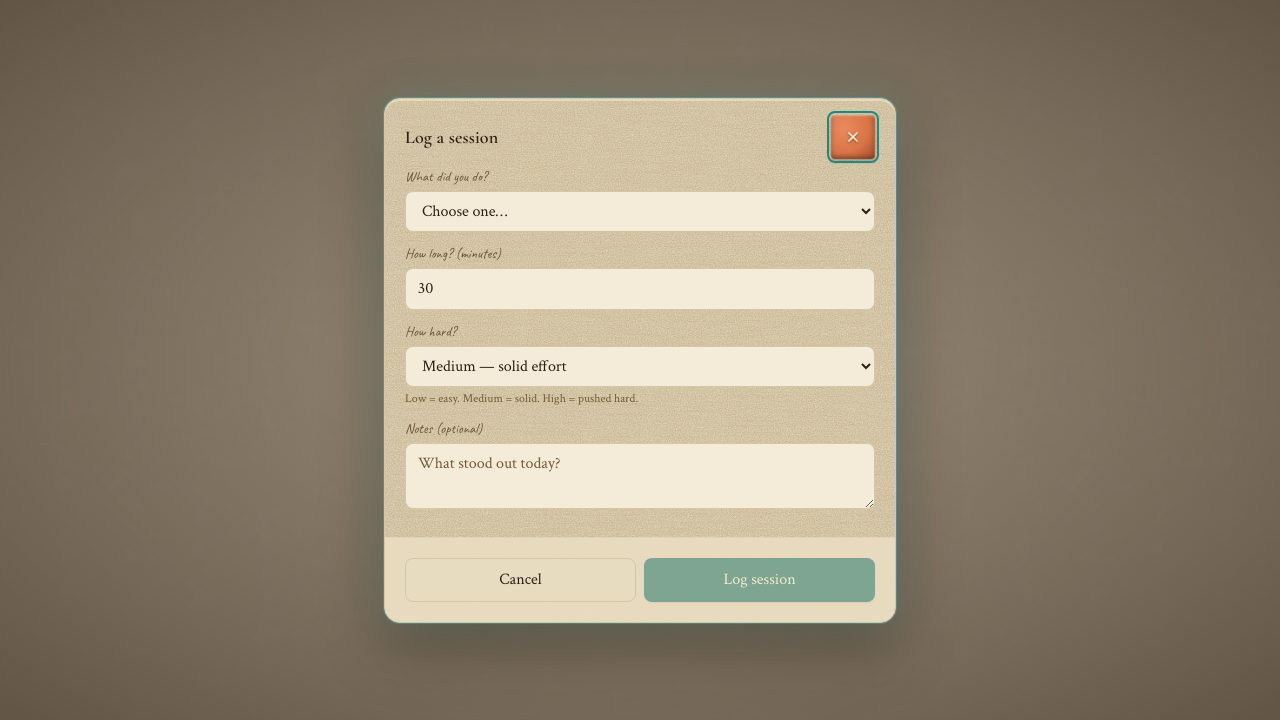
Test: MovementSessionLogModal › Back button returns to the log form without posting
The image size is (1280, 720).
Select "+ New activity…" in the dropdown labelled "What did you do?" at (640, 211), box [405,190,875,232]
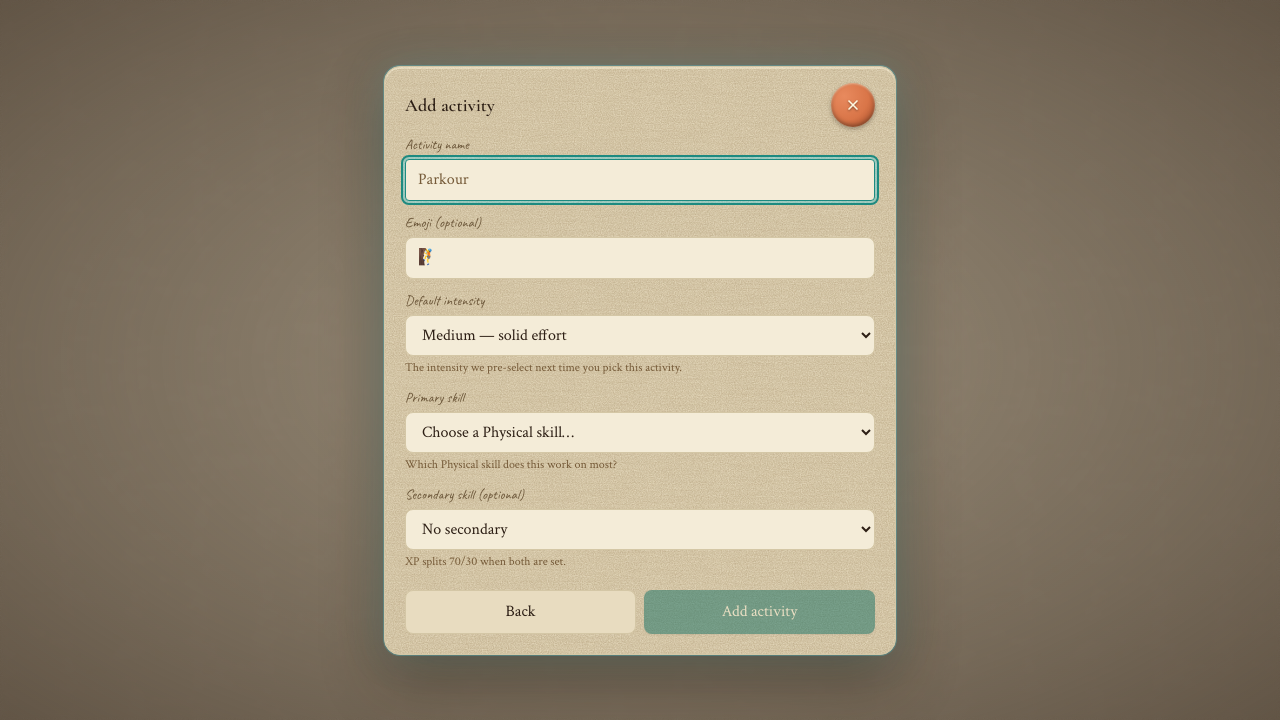
Click the button "Back" at (520, 612), box [405,590,636,634]
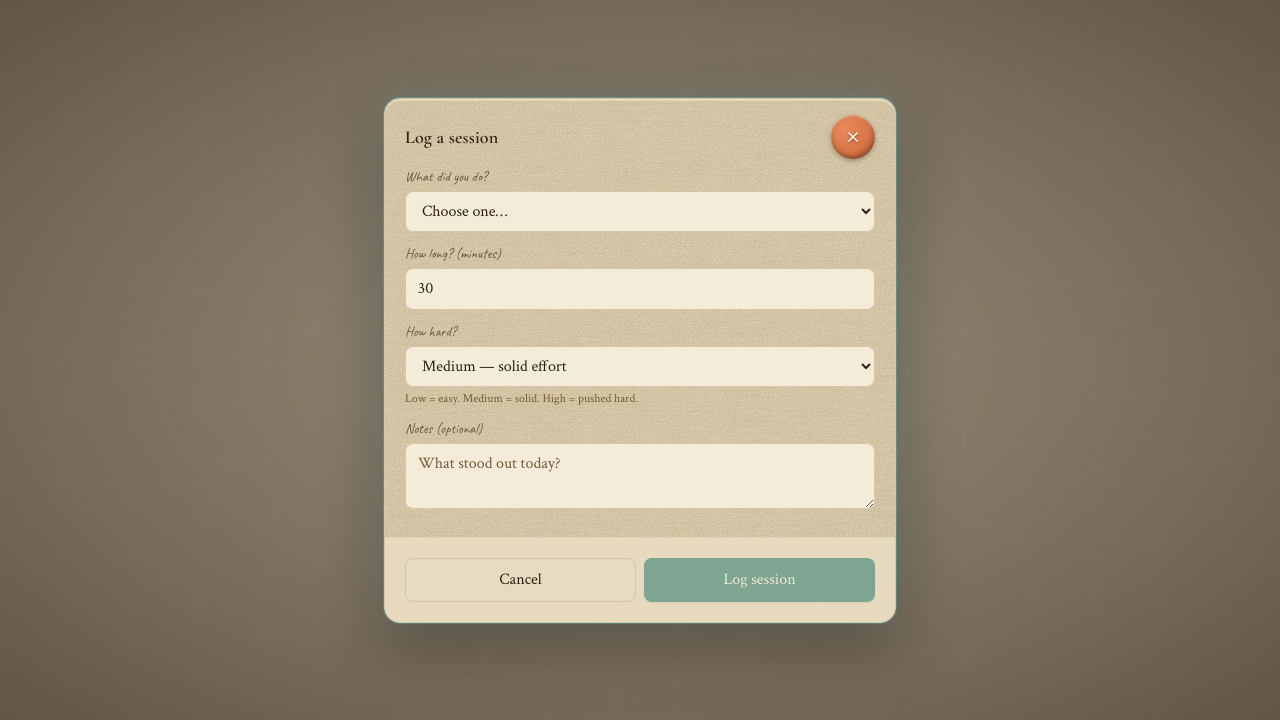
Expected: the button "Log session" is shown, [644,558,875,602]
Expected: the label "Activity name" is gone
